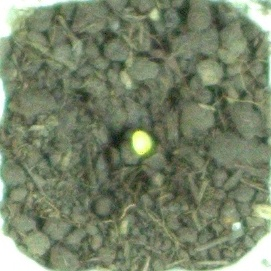pepper seed: (53, 51, 208, 207)
